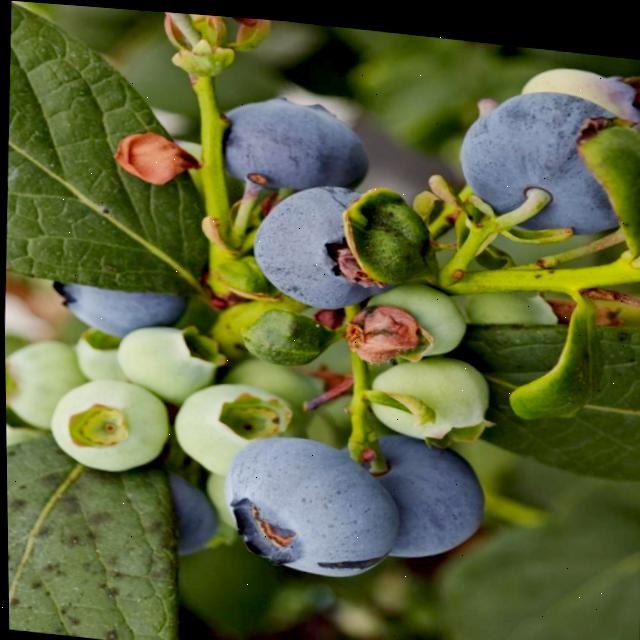RipeBlueBerry: (223, 427, 398, 578), (454, 75, 631, 221), (246, 170, 389, 307), (358, 421, 491, 561), (218, 85, 378, 193)
UnripeBlueBerry: (173, 369, 306, 478), (44, 369, 167, 475), (368, 345, 492, 436), (116, 312, 226, 398)
